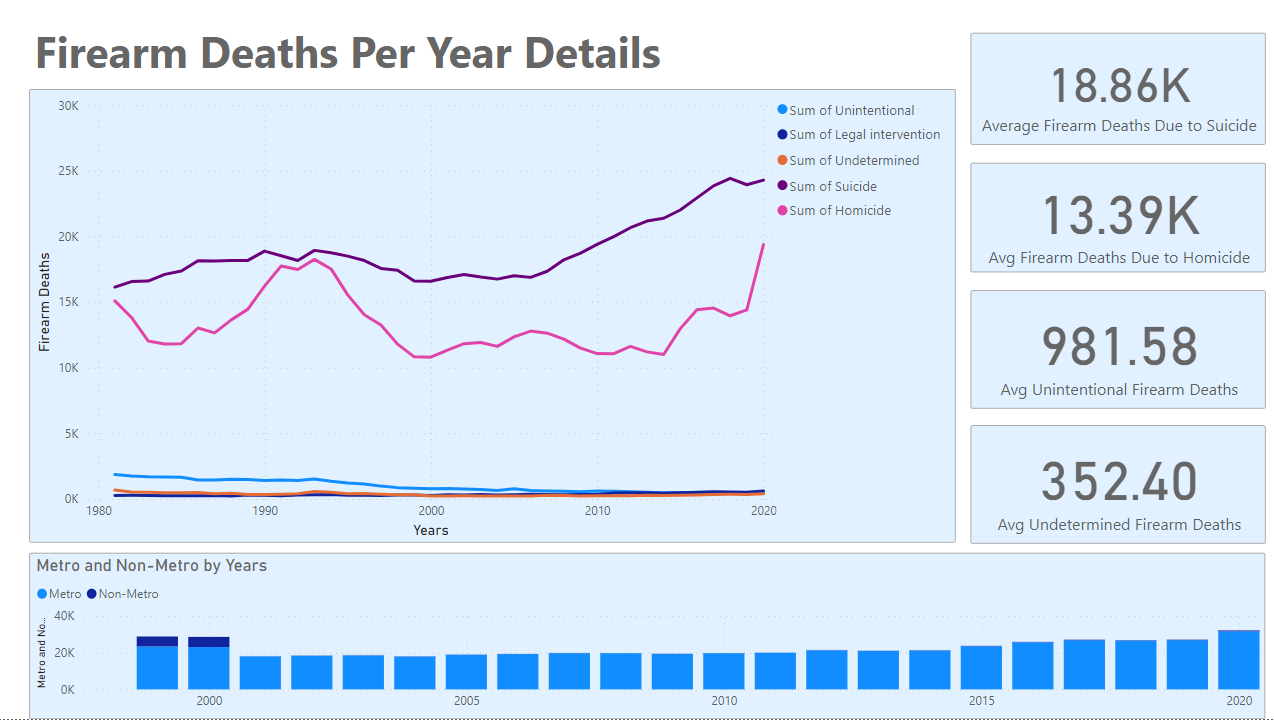

The page's visual inventory and layout, read from the dashboard file:
{"tool":"powerbi","page":{"name":"Types","canvas":[1280,720],"ordinal":1},"visuals":[{"type":"lineChart","title":"Firearm Deaths by Type","fields":{"Category":["firearm_deaths_usafacts (2).Years"],"Y":["Sum(firearm_deaths_usafacts (2).Unintentional)","Sum(firearm_deaths_usafacts (2).Legal intervention)","Sum(firearm_deaths_usafacts (2).Undetermined)","Sum(firearm_deaths_usafacts (2).Suicide)","Sum(firearm_deaths_usafacts (2).Homicide)"]},"box":[31.4,90.5,926.2,453.5],"z":0},{"type":"card","title":"Average firearm deaths due to","fields":{"Values":["Avg(firearm_deaths_usafacts (2).Suicide)"]},"box":[972.1,33.8,295.5,112.2],"z":1000},{"type":"card","fields":{"Values":["Avg(firearm_deaths_usafacts (2).Homicide)"]},"box":[972.1,164,295.5,109.7],"z":2000},{"type":"card","fields":{"Values":["Avg(firearm_deaths_usafacts (2).Unintentional)"]},"box":[972.1,290.7,295.5,118.2],"z":3000},{"type":"textbox","box":[31.4,16.9,745.3,72.4],"z":4000},{"type":"columnChart","fields":{"Y":["Sum(firearm_deaths_usafacts (2).Metro)","Sum(firearm_deaths_usafacts (2).Non-Metro)"],"Category":["firearm_deaths_usafacts (2).Years"]},"box":[31.4,553.6,1236.2,166.4],"z":4001},{"type":"card","fields":{"Values":["Avg(firearm_deaths_usafacts (2).Undetermined)"]},"box":[972.1,425.7,295.5,118.2],"z":4003}]}

Visuals, with their boxes in screenshot pixels (x1, y1, x2, y2), scaled from the page's 1280x720 canvas onto the 1274x720 screenshot:
"Firearm Deaths by Type" lineChart: x1=31, y1=90, x2=953, y2=544
"Average firearm deaths due to" card: x1=968, y1=34, x2=1262, y2=146
card - Avg(firearm_deaths_usafacts (2).Homicide): x1=968, y1=164, x2=1262, y2=274
card - Avg(firearm_deaths_usafacts (2).Unintentional): x1=968, y1=291, x2=1262, y2=409
textbox: x1=31, y1=17, x2=773, y2=89
columnChart - Sum(firearm_deaths_usafacts (2).Metro) x Sum(firearm_deaths_usafacts (2).Non-Metro): x1=31, y1=554, x2=1262, y2=719
card - Avg(firearm_deaths_usafacts (2).Undetermined): x1=968, y1=426, x2=1262, y2=544
